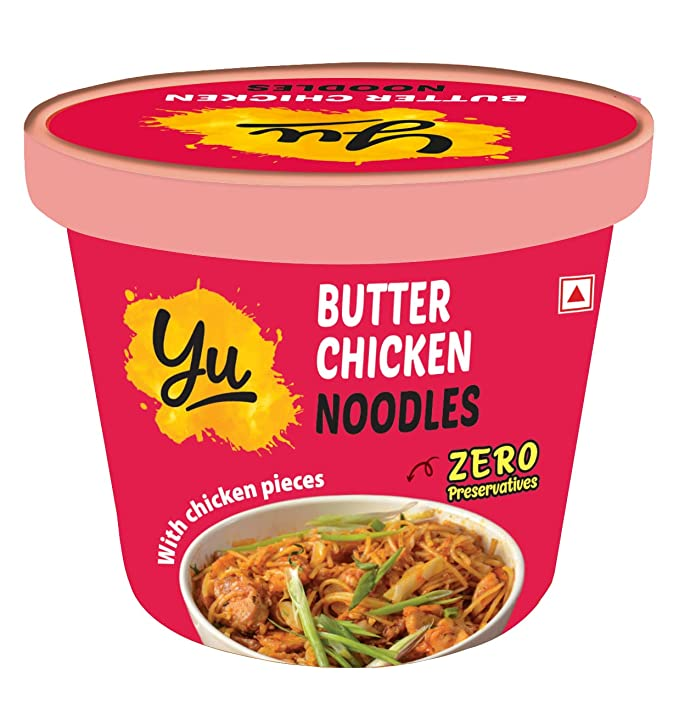non_veg: (554, 275, 598, 324)
